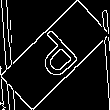P_SE: (25, 24, 85, 86)
